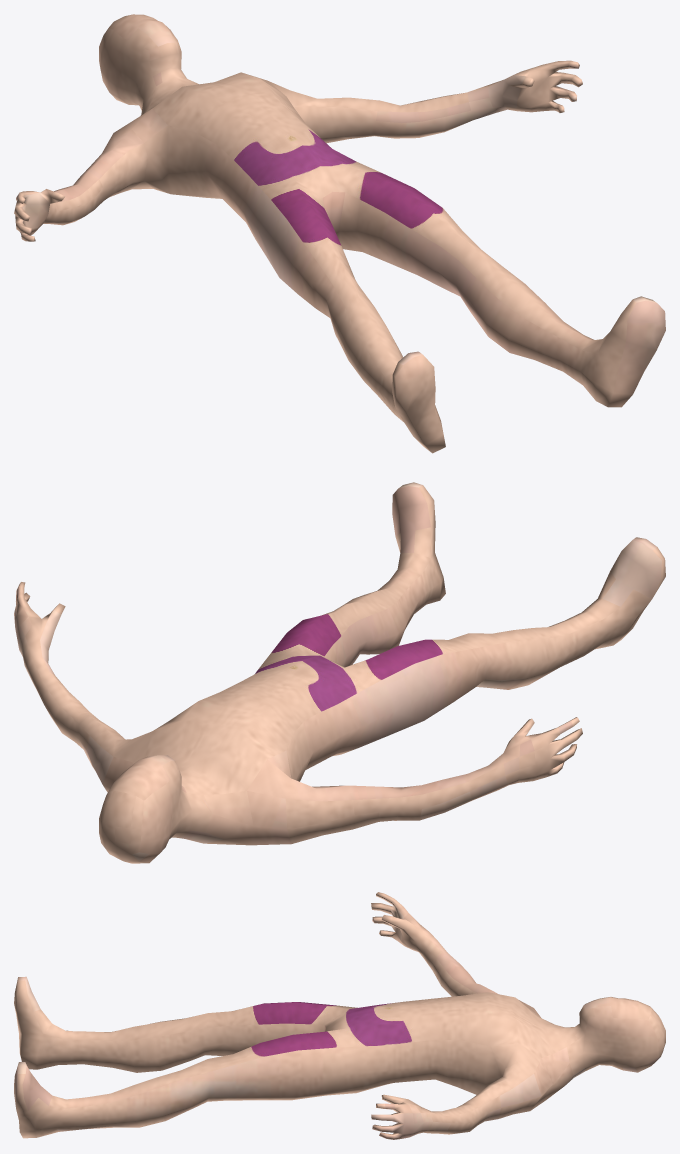
The model's file is CosentyxS2.gltf.
The picture shows the model from 3 angles, top to bottom: view 1: azimuth 30°, elevation 25°; view 2: azimuth 150°, elevation 25°; view 3: azimuth 270°, elevation 25°; orthographic projection. The views are drawn at different scales.
Visible parts, largest first — view 1: Human_BaseMesh.001; view 2: Human_BaseMesh.001; view 3: Human_BaseMesh.001.
Part boxes in pixels (x1,y1,x2,y2): Human_BaseMesh.001: (14,14,665,453); Human_BaseMesh.001: (14,482,665,863); Human_BaseMesh.001: (14,892,665,1139).
Size of the model in its own units: 4.5 by 1.03 by 5.81.
1 material, 1 textured.
